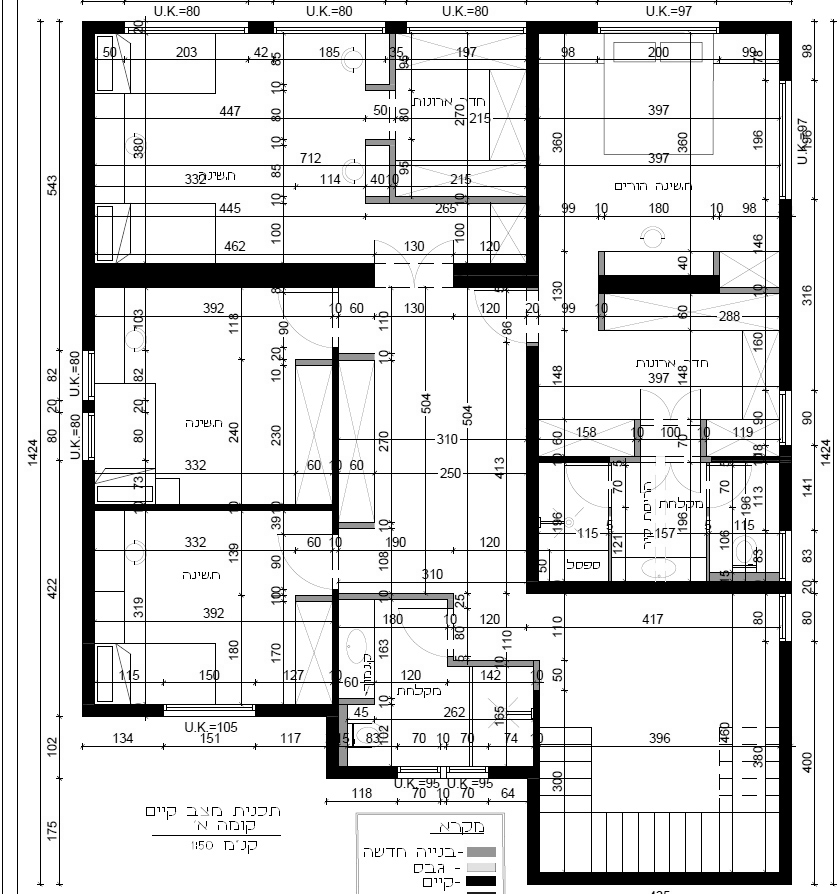door: (374, 242, 455, 290), (640, 454, 704, 495), (635, 387, 704, 423)
room: (543, 618, 774, 863), (98, 44, 370, 246), (550, 344, 769, 567), (101, 296, 327, 510), (550, 49, 762, 265), (103, 519, 323, 690), (355, 615, 524, 744), (415, 54, 525, 198)
wall: (84, 263, 375, 288), (78, 465, 97, 714), (524, 344, 540, 591), (523, 41, 540, 265), (531, 581, 782, 596), (777, 641, 793, 873), (81, 19, 94, 267), (601, 268, 724, 292), (532, 873, 796, 884), (781, 200, 794, 391), (100, 500, 338, 510), (530, 25, 539, 287), (331, 346, 343, 531), (451, 263, 540, 283), (528, 767, 540, 880), (778, 441, 793, 530), (258, 700, 328, 718), (82, 703, 153, 718), (328, 763, 389, 779), (327, 706, 338, 779), (536, 22, 589, 34), (490, 761, 532, 775), (724, 23, 794, 30)
window: (775, 79, 798, 198), (596, 18, 720, 40), (274, 17, 389, 40), (411, 19, 530, 37), (394, 761, 488, 783), (123, 21, 246, 37), (163, 702, 255, 715), (775, 391, 796, 435), (80, 350, 98, 399), (80, 417, 100, 458), (775, 591, 792, 637), (777, 530, 793, 577)
